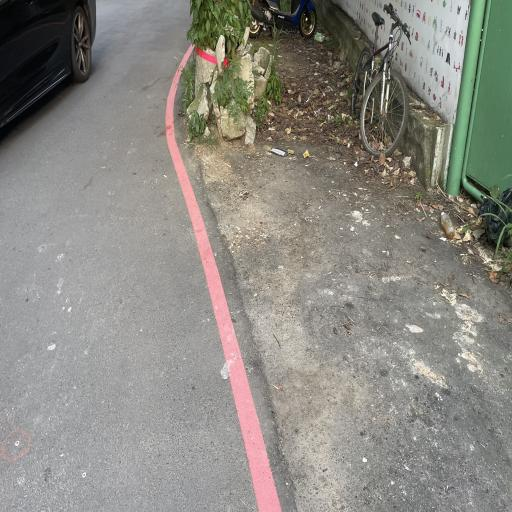redline: (158, 40, 280, 510)
